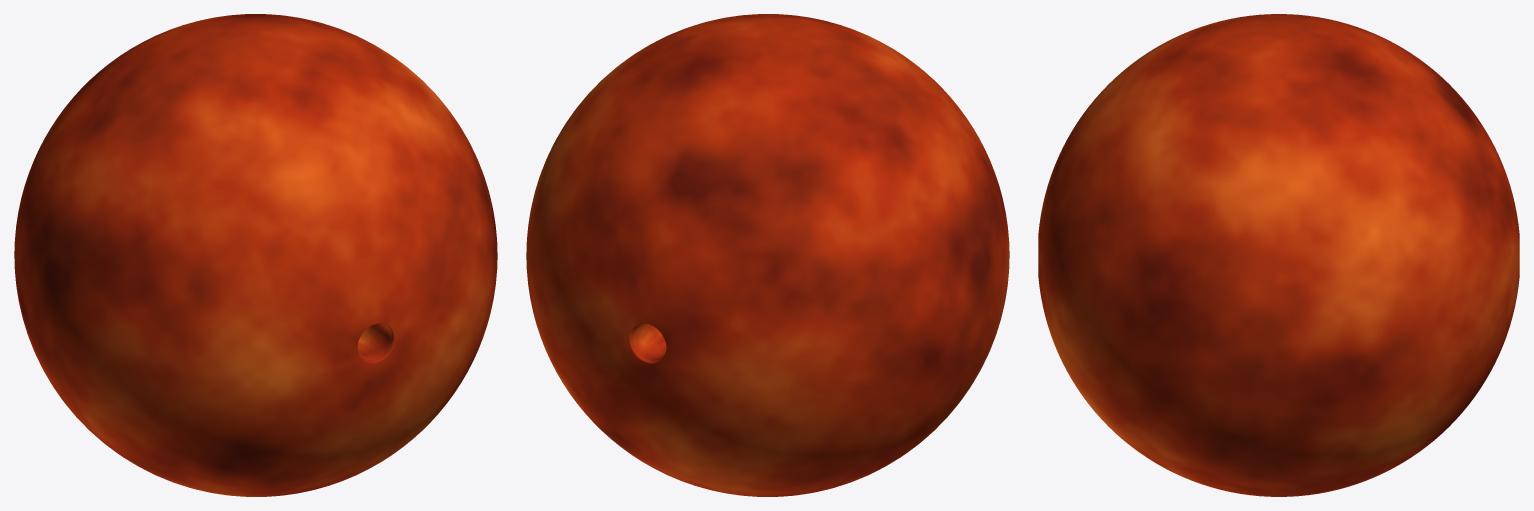
Rendered from carnelian-12mm.glb.
3 renders of one model, left to right at view 1: azimuth 30°, elevation 25°; view 2: azimuth 150°, elevation 25°; view 3: azimuth 270°, elevation 25°, orthographic.
Parts seen in each view (by area): view 1: carnelian.001; view 2: carnelian.001; view 3: carnelian.001.
Boxes of the visible parts, x1,y1,x2,y2 form: carnelian.001: (14,14,497,496); carnelian.001: (526,14,1009,496); carnelian.001: (1038,14,1519,496).
Bounding box in the file's own units: 0.012 × 0.012 × 0.012.
Materials: 2 (1 with a texture image).
